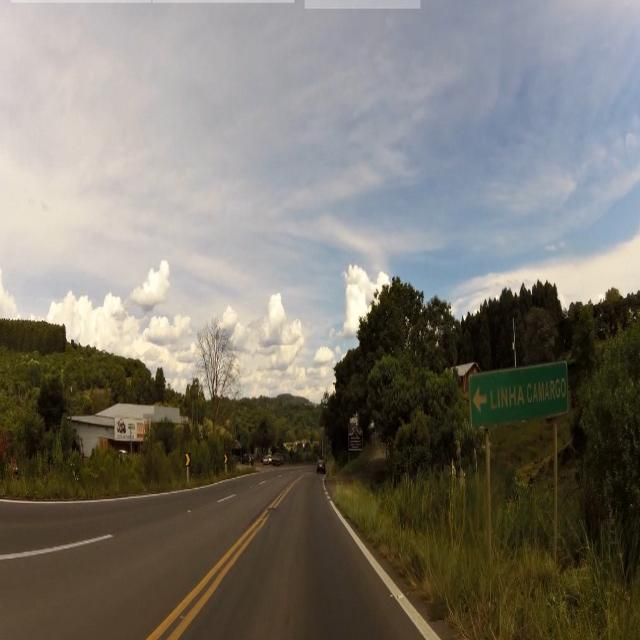Del: (186, 452, 190, 466)
I-4: (470, 365, 570, 414)
